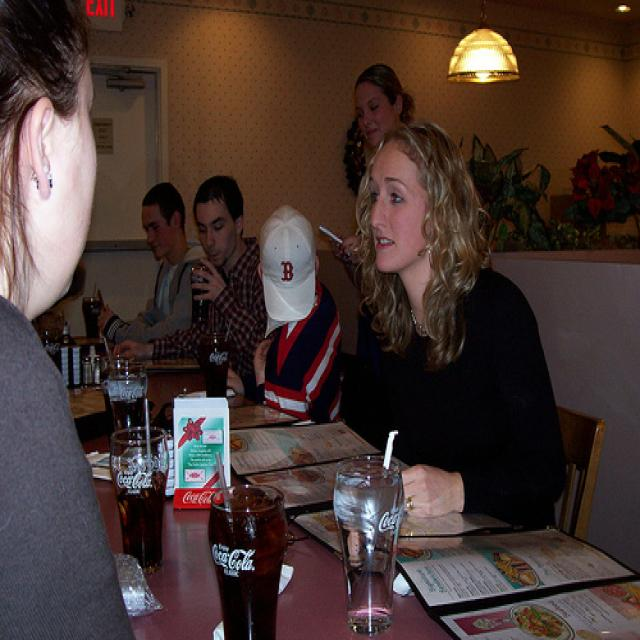chair: (549, 407, 605, 539)
diningtable: (41, 338, 640, 640)
person: (352, 119, 571, 525), (1, 1, 136, 639), (111, 175, 270, 375), (225, 204, 345, 424), (328, 62, 415, 269), (97, 184, 205, 349)
